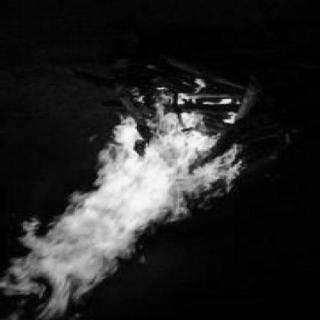Fire: (3, 85, 299, 319)
